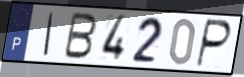0: (167, 17, 197, 67)
2: (128, 14, 167, 66)
4: (99, 13, 129, 64)
B: (61, 11, 99, 61)
I: (41, 11, 56, 57)
P: (194, 17, 233, 69)
